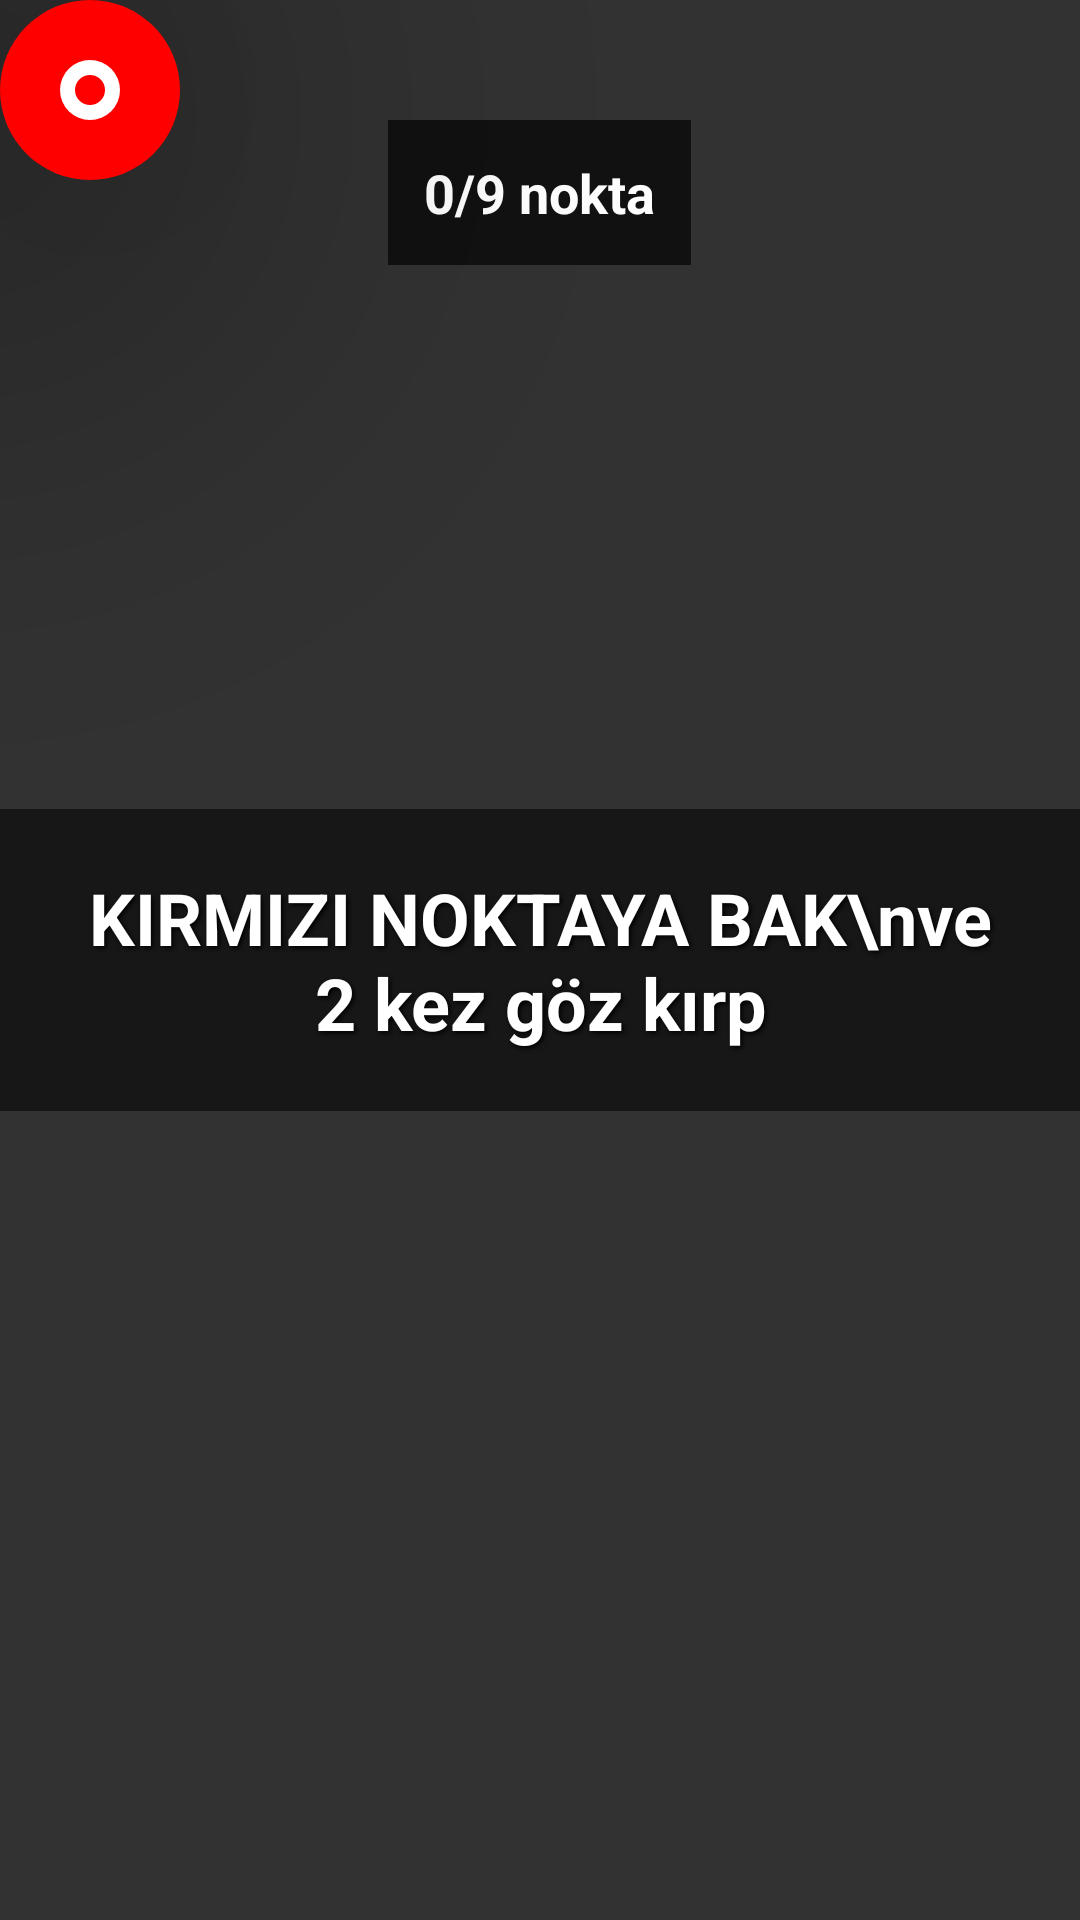

Named icons in this screenshot (1080×1920) and their centers, (x,y):
calibration target: (90,90)
